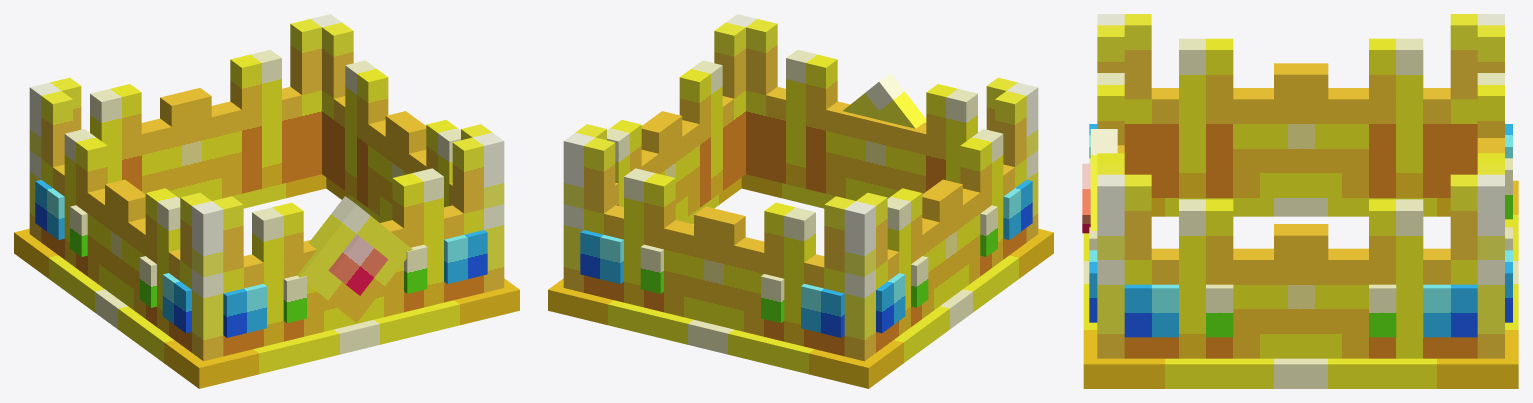
The model's file is crown.obj.
3 views of the same model, side by side, from view 1: azimuth 30°, elevation 25°; view 2: azimuth 150°, elevation 25°; view 3: azimuth 270°, elevation 25° (orthographic). The views are drawn at different scales.
Parts seen in each view (by area): view 1: cube; view 2: cube; view 3: cube.
Part boxes in pixels (x1,y1,x2,y2): cube: (14,14,519,388); cube: (548,14,1053,388); cube: (1082,14,1518,388).
Size of the model in its own units: 1 by 0.5 by 1.
2 materials, 2 textured.
